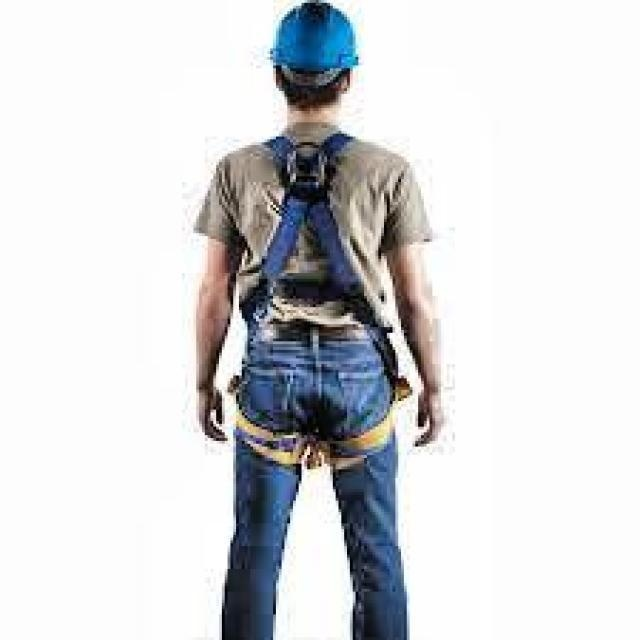Arnes_seguridad: (238, 125, 375, 344)
